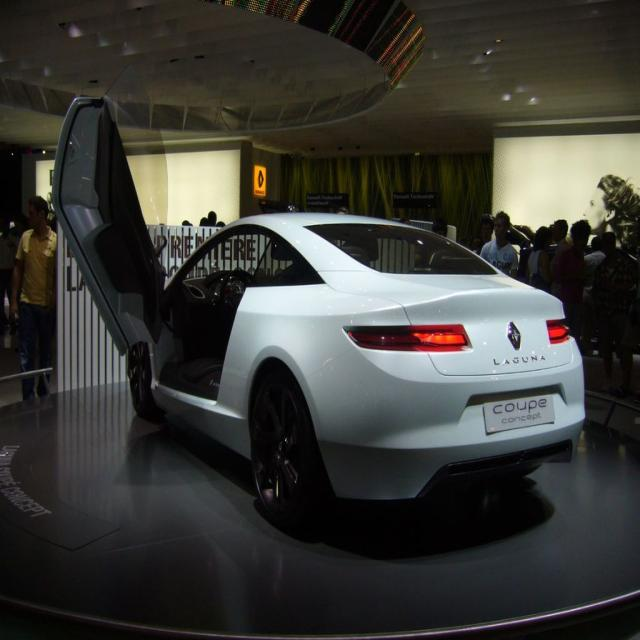car: (76, 200, 579, 529)
